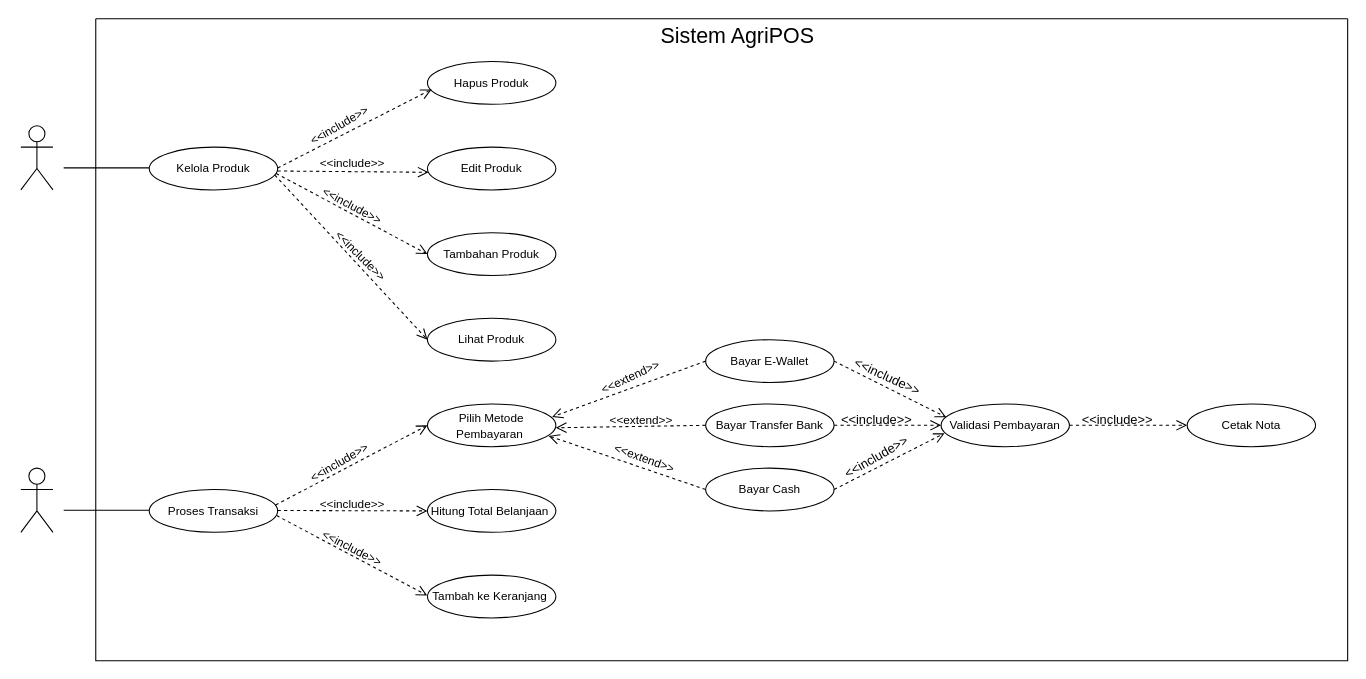
Image size: 1366x679. Some labels were removed from this diagram. Here are the shapes that lost their labels. From the top down, the box of each, then its label:
(20, 125, 53, 190): Admin
(20, 467, 53, 532): Kasir
